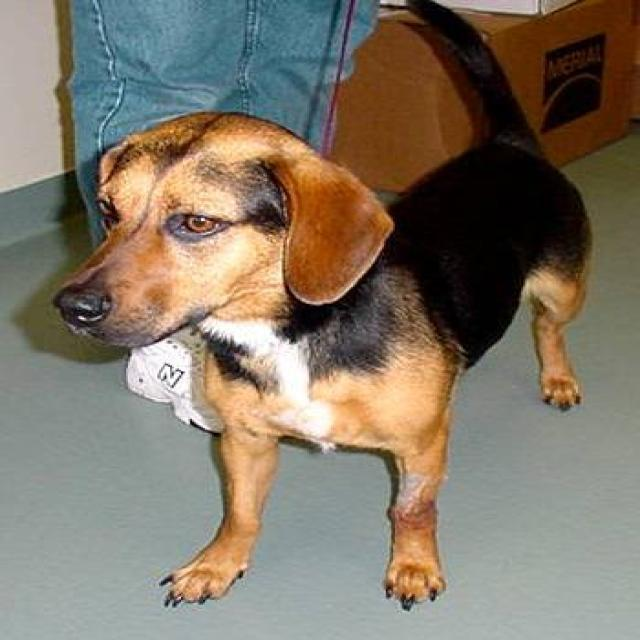dogs: (64, 0, 606, 640)
